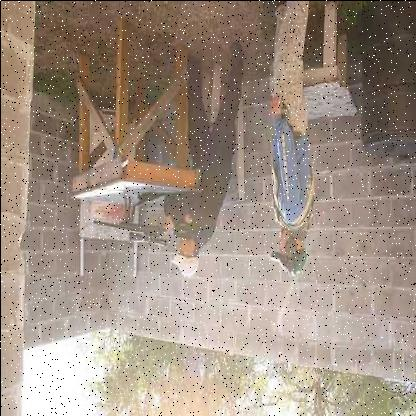rifle: (85, 196, 172, 254)
